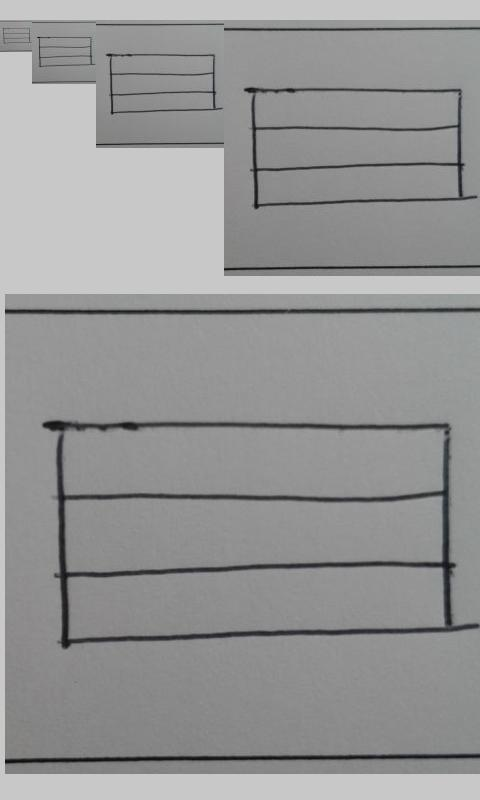list_view: (53, 419, 453, 645), (251, 86, 464, 208), (109, 53, 218, 114), (38, 36, 93, 67), (2, 27, 31, 44)
